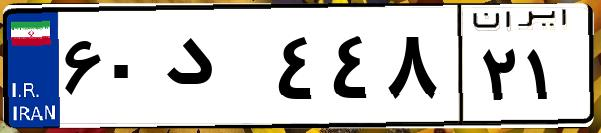0: (110, 28, 158, 98)
1: (525, 38, 570, 115)
2: (475, 38, 525, 113)
4: (270, 28, 330, 110), (330, 28, 385, 110)
6: (57, 26, 110, 100)
8: (385, 28, 445, 110)
د: (158, 20, 270, 120)
